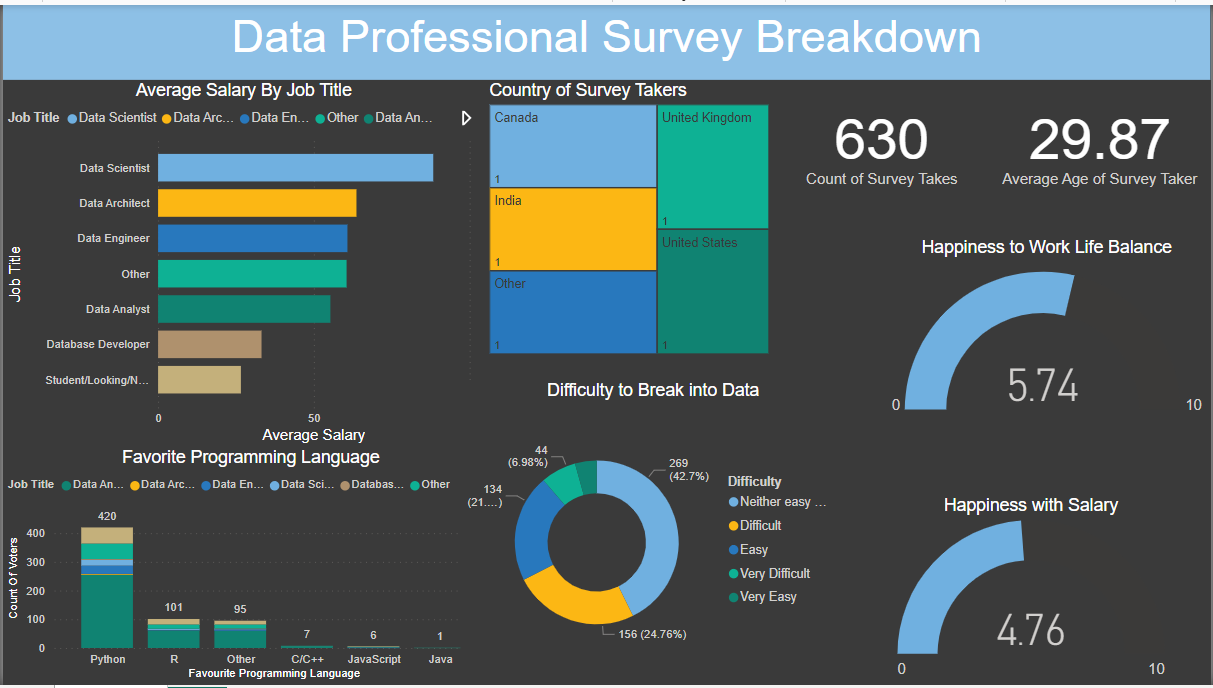

The page's visual inventory and layout, read from the dashboard file:
{"tool":"powerbi","page":{"name":"Page 1","canvas":[1280,720],"ordinal":0},"visuals":[{"type":"textbox","box":[9.4,0,1270.6,79.3],"z":0},{"type":"card","fields":{"Values":["Count(Data Professional Survey.Unique ID)"]},"box":[816.9,79.7,227.8,133.4],"z":1000},{"type":"card","fields":{"Values":["Avg(Data Professional Survey.Q10 - Current Age)"]},"box":[1044.7,79.7,235.3,133.4],"z":2000},{"type":"barChart","title":"Average Salary By Job Title","fields":{"Category":["Data Professional Survey.Q1 - Which Title Best Fits your Current Role?.1"],"Y":["Avg(Data Professional Survey.Average Salary)"],"Series":["Data Professional Survey.Q1 - Which Title Best Fits your Current Role?.1"]},"box":[0,79.8,510.1,389.6],"z":3000},{"type":"columnChart","title":"Favorite Programming Language","fields":{"Category":["Data Professional Survey.Q5 - Favorite Programming Language.1"],"Y":["CountNonNull(Data Professional Survey.Unique ID)"],"Series":["Data Professional Survey.Q1 - Which Title Best Fits your Current Role?.1"]},"box":[0,469.3,525,250.4],"z":4000},{"type":"treemap","title":"Country of Survey Takers","fields":{"Group":["Data Professional Survey.Q11 - Which Country do you live in?.1"],"Values":["Count(Data Professional Survey.Q11 - Which Country do you live in?.1)"]},"box":[510.1,79.8,306.1,295],"z":5000},{"type":"gauge","title":"Happiness to Work Life Balance","fields":{"Y":["Avg(Data Professional Survey.Q6 - How Happy are you in your Current Position with the following? (Work/Life Balance))"],"MaxValue":["Max(Data Professional Survey.Q6 - How Happy are you in your Current Position with the following? (Upward Mobility))"],"MinValue":["Min(Data Professional Survey.Q6 - How Happy are you in your Current Position with the following? (Salary))"]},"box":[931.2,246.7,348.8,202.2],"z":6000},{"type":"gauge","title":"Happiness with Salary","fields":{"Y":["Avg(Data Professional Survey.Q6 - How Happy are you in your Current Position with the following? (Upward Mobility))"],"MinValue":["Min(Data Professional Survey.Q6 - How Happy are you in your Current Position with the following? (Work/Life Balance))"],"MaxValue":["Max(Data Professional Survey.Q6 - How Happy are you in your Current Position with the following? (Work/Life Balance))"]},"box":[931.2,519.4,315.4,200.3],"z":7000},{"type":"donutChart","title":"Difficulty to Break into Data","fields":{"Category":["Data Professional Survey.Q7 - How difficult was it for you to break into Data?"],"Y":["CountNonNull(Data Professional Survey.Q7 - How difficult was it for you to break into Data?)"]},"box":[484.2,397,408.1,322.8],"z":8000}]}

Visuals, with their boxes in screenshot pixels (x1, y1, x2, y2), scaled from the page's 1280x720 canvas onto the 1213x688 screenshot:
textbox: rect(9, 0, 1212, 76)
card - Count(Data Professional Survey.Unique ID): rect(774, 76, 990, 204)
card - Avg(Data Professional Survey.Q10 - Current Age): rect(990, 76, 1212, 204)
"Average Salary By Job Title" barChart: rect(0, 76, 483, 449)
"Favorite Programming Language" columnChart: rect(0, 448, 498, 687)
"Country of Survey Takers" treemap: rect(483, 76, 773, 358)
"Happiness to Work Life Balance" gauge: rect(882, 236, 1212, 429)
"Happiness with Salary" gauge: rect(882, 496, 1181, 687)
"Difficulty to Break into Data" donutChart: rect(459, 379, 846, 687)
